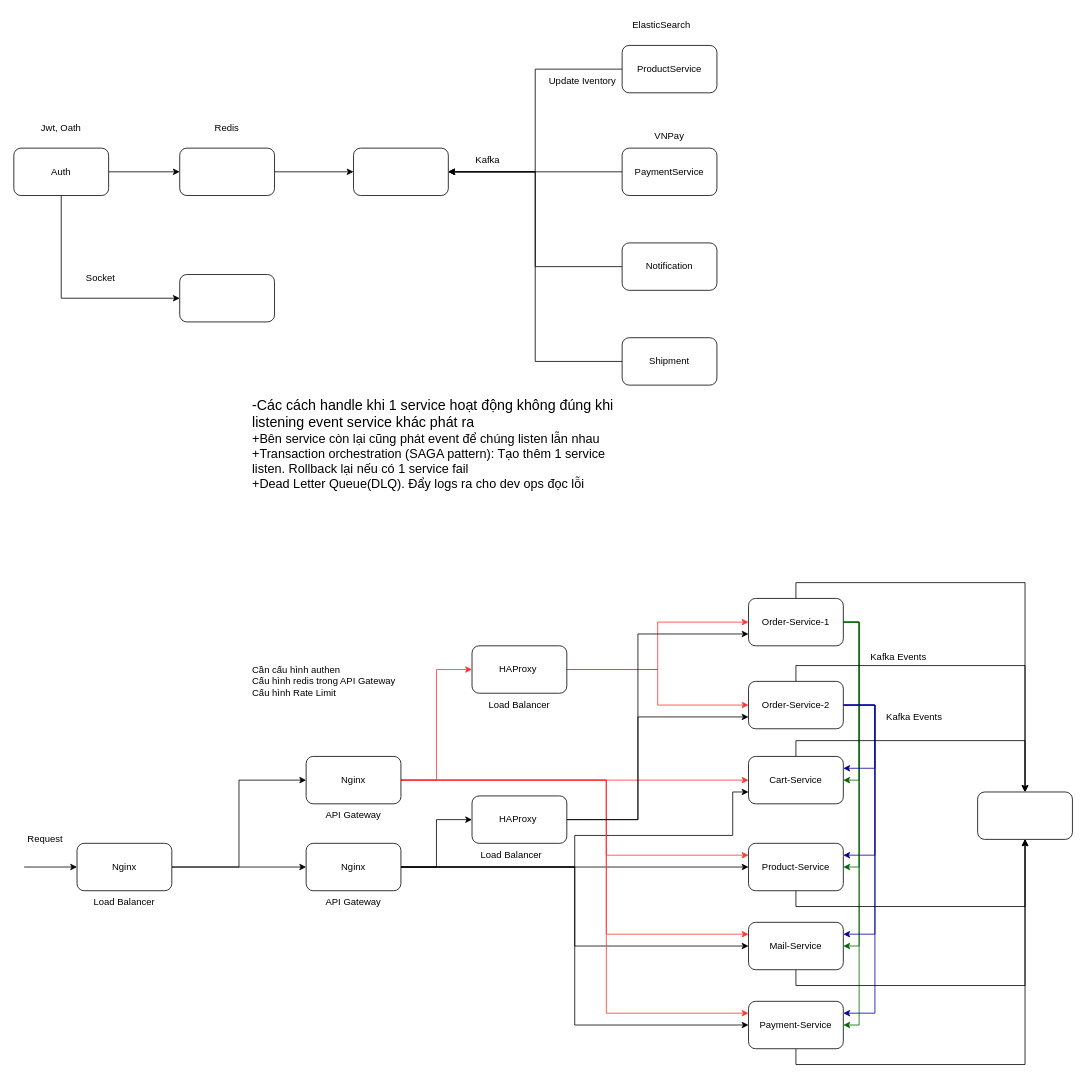
The diagram is 1086 pixels wide and 1085 high, and some of its shapes have lost their labels. Here are the shapes that lost their labels. From the top down, the box of each, then its label:
(179, 147, 275, 196): CartService
(353, 147, 448, 196): SaveOrder
(179, 274, 275, 322): ChatService
(977, 791, 1072, 839): ELK Elastic Logs
